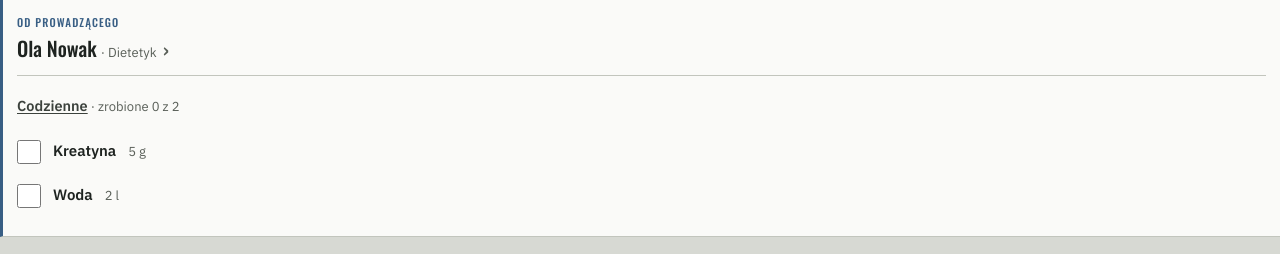
karta „Od prowadzącego” › odhaczenie nawyku na miejscu zapisuje dzisiejszy dzień i robi z listy „w trakcie”
Click the checkbox labelled "Woda 2 l". click: (29, 196)
box: [17,184,41,208]
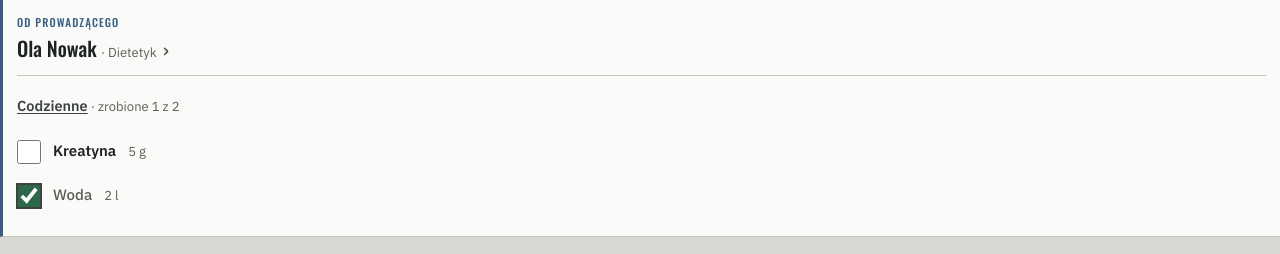
Check: the checkbox labelled "Woda 2 l" is checked, box [17,184,41,208]
Check: the text "· zrobione 1 z 2" is shown, box [88,98,180,115]
Click the checkbox labelled "Kreatyna 5 g". click: (29, 152)
box: [17,140,41,164]
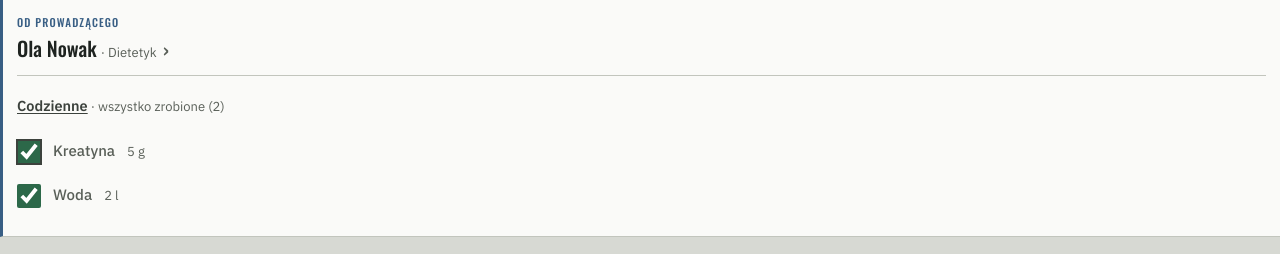
Check: the text "· wszystko zrobione (2)" is shown, box [88,98,225,115]
